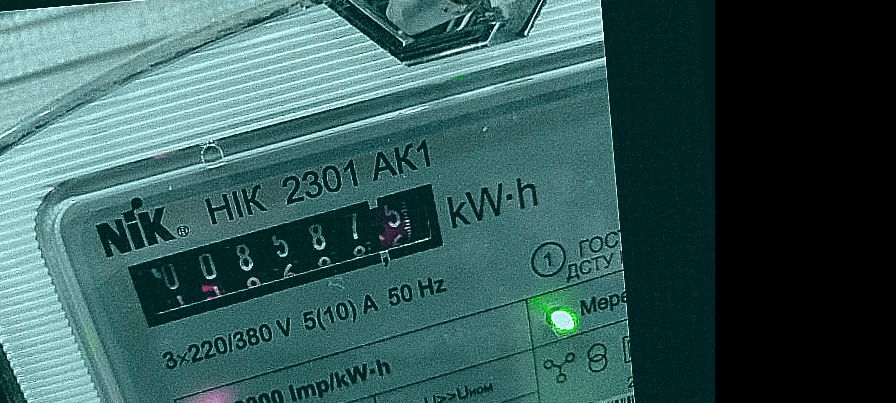0: (193, 246, 221, 282), (155, 257, 184, 291)
5: (267, 227, 293, 260), (379, 196, 403, 228)
6: (387, 230, 406, 249)
7: (341, 208, 366, 244)
8: (231, 239, 258, 273), (304, 218, 329, 253)
screen: (114, 180, 470, 330)
